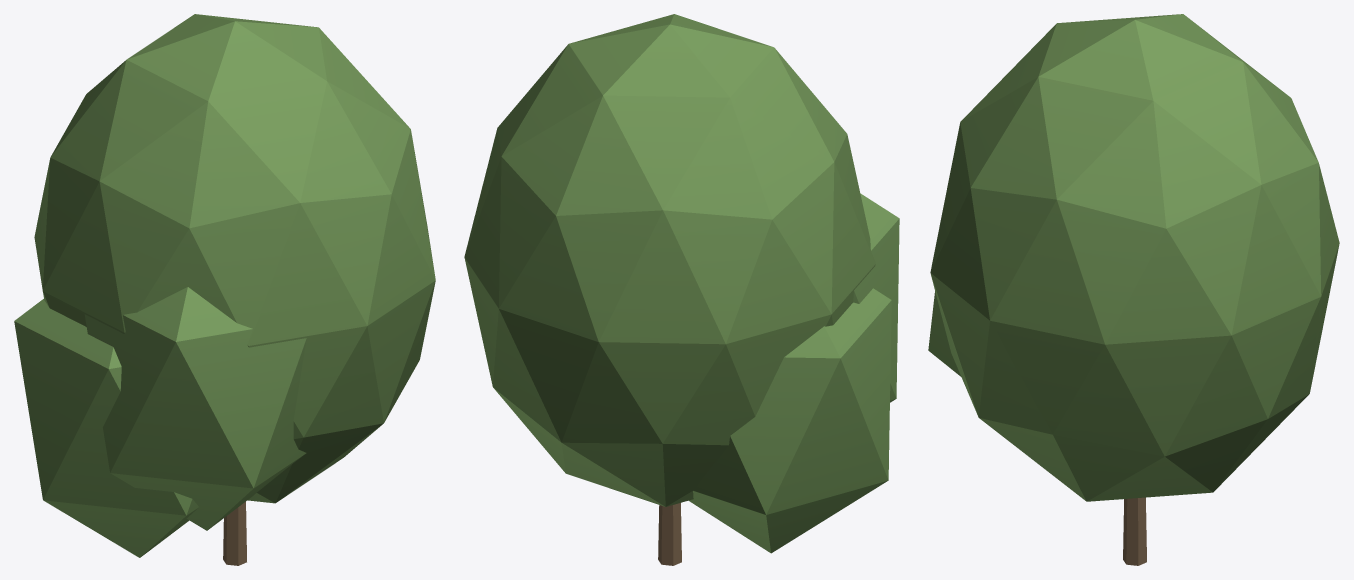
3 views of the same model, side by side, from view 1: azimuth 30°, elevation 25°; view 2: azimuth 150°, elevation 25°; view 3: azimuth 270°, elevation 25° (orthographic).
Parts seen in each view (by area): view 1: tree_733; view 2: tree_733; view 3: tree_733.
Boxes of the visible parts, x1=… form: tree_733: x1=14, y1=14, x2=435, y2=565; tree_733: x1=464, y1=14, x2=899, y2=565; tree_733: x1=928, y1=14, x2=1339, y2=565.
Bounding box in the file's own units: 6.01 × 8.08 × 5.57.
